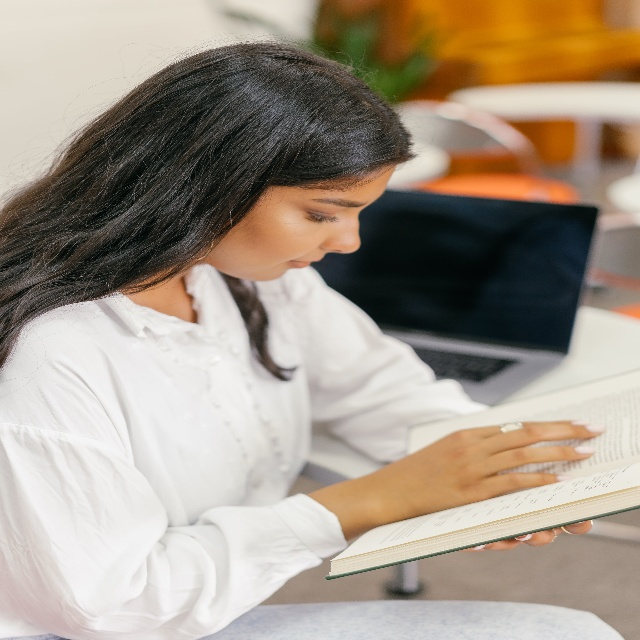Sin_guantes: (368, 418, 605, 528), (470, 519, 593, 551)
